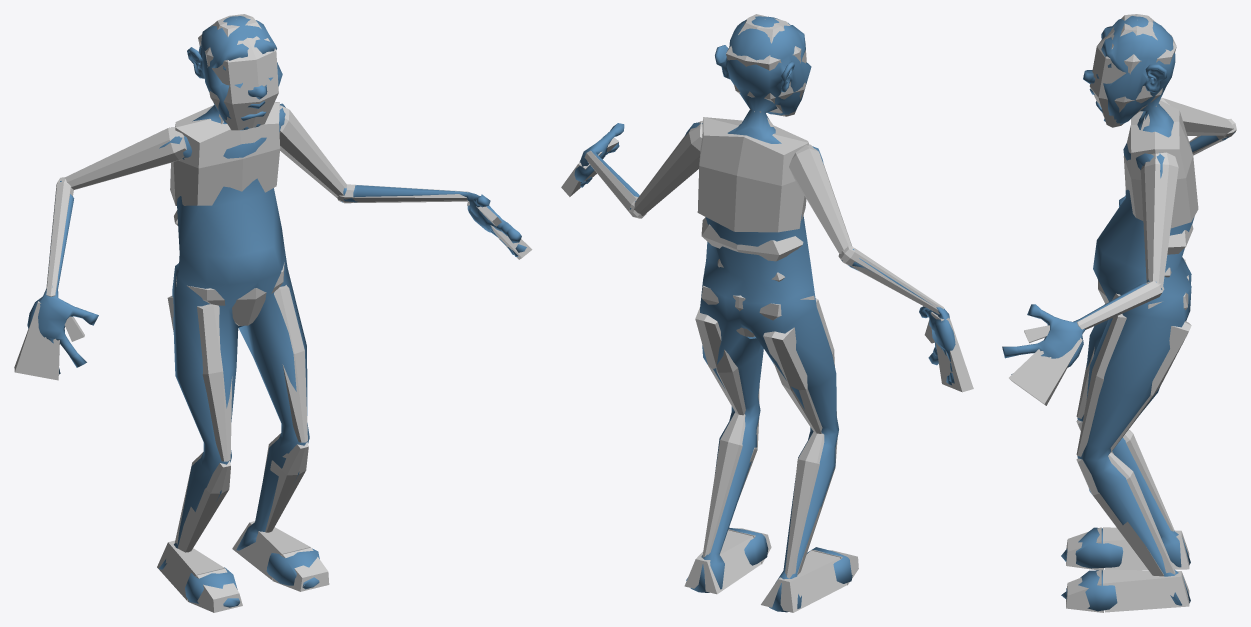
The model's file is sad.obj.
3 renders of one model, left to right at view 1: azimuth 30°, elevation 25°; view 2: azimuth 150°, elevation 25°; view 3: azimuth 270°, elevation 25°, orthographic.
Parts seen in each view (by area): view 1: BodyMaquette_lowpoly_body, Ludwig_meLudwig; view 2: BodyMaquette_lowpoly_body, Ludwig_meLudwig; view 3: Ludwig_meLudwig, BodyMaquette_lowpoly_body.
Boxes of the visible parts, x1,y1,x2,y2 form: BodyMaquette_lowpoly_body: (14,14,532,612); Ludwig_meLudwig: (27,16,526,607); BodyMaquette_lowpoly_body: (561,14,973,612); Ludwig_meLudwig: (574,16,955,612); Ludwig_meLudwig: (1002,16,1234,611); BodyMaquette_lowpoly_body: (1009,14,1236,612).
Size of the model in its own units: 11.83 by 13.63 by 5.16.
